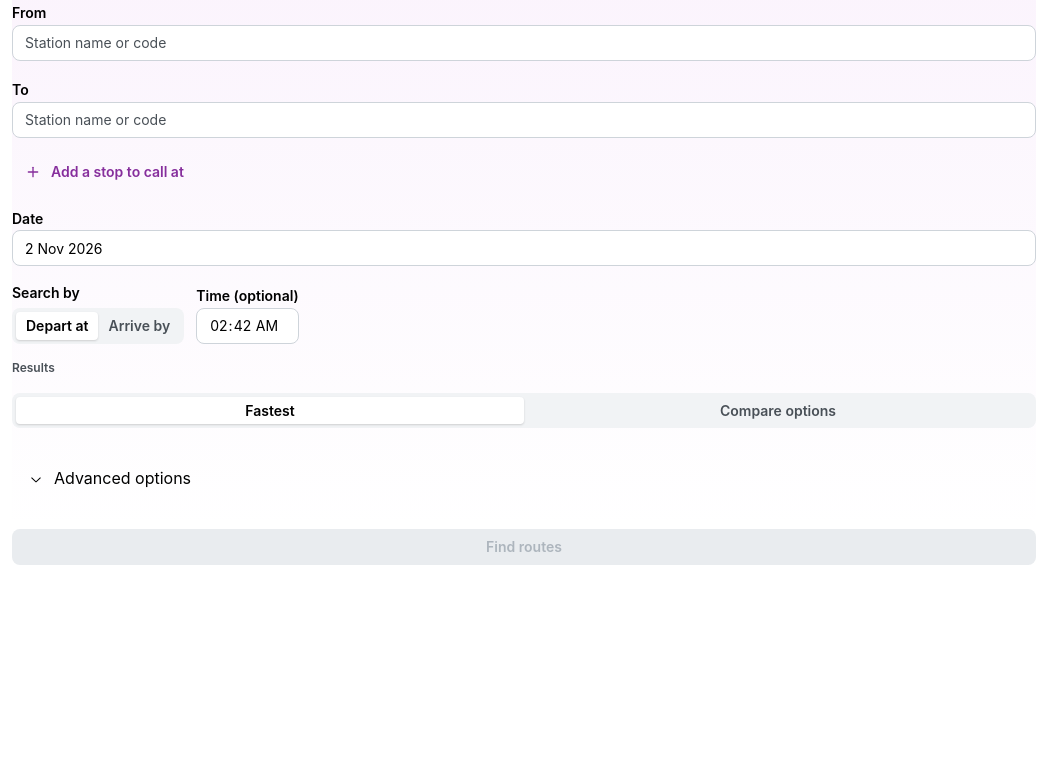
Test: PlanTripFlow › shows a plain-text error and does not offer the button when the plan request fails
Type "EUS" into the dropdown labelled "From".
click(524, 43); type("EUS")  # box left=12, top=25, right=1036, bottom=61
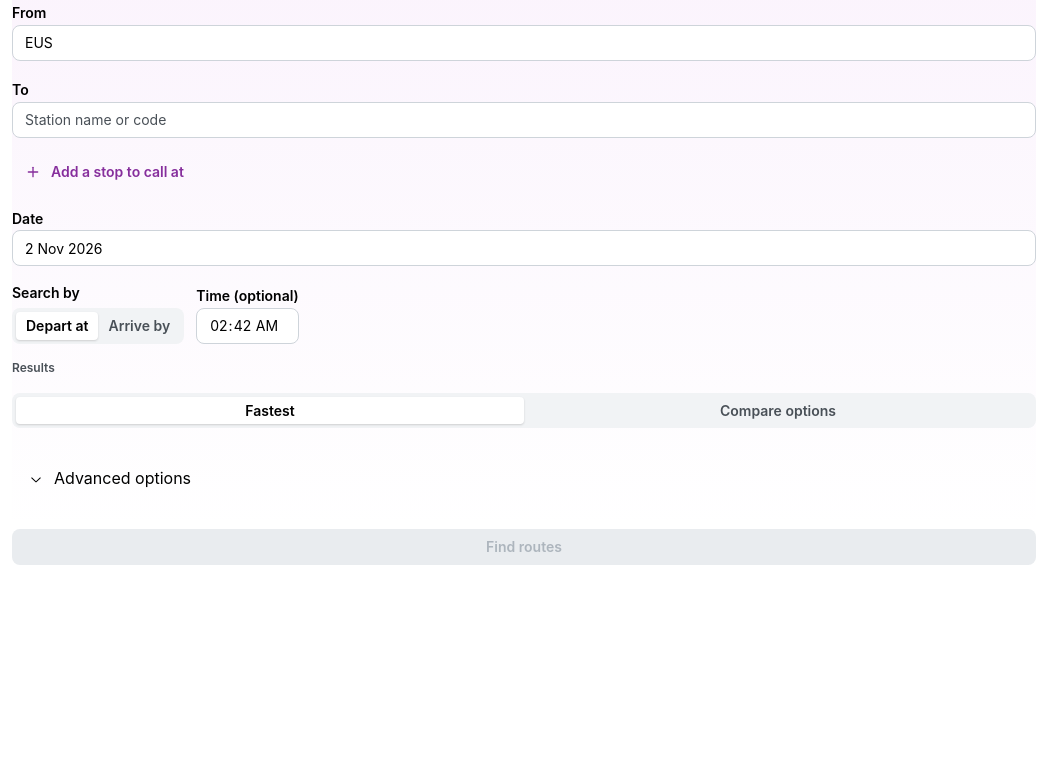
Type "MKC" into the dropdown labelled "To".
click(524, 120); type("MKC")  # box left=12, top=102, right=1036, bottom=138
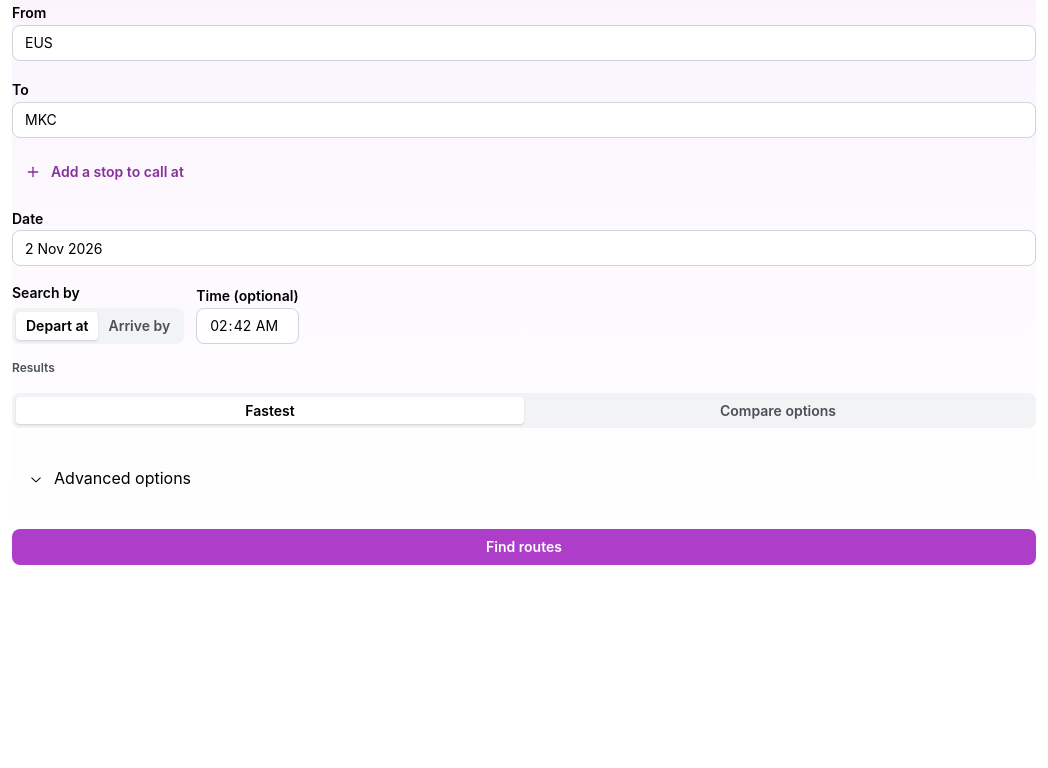
Click the button "Find routes".
click(524, 547)  # box left=12, top=529, right=1036, bottom=565
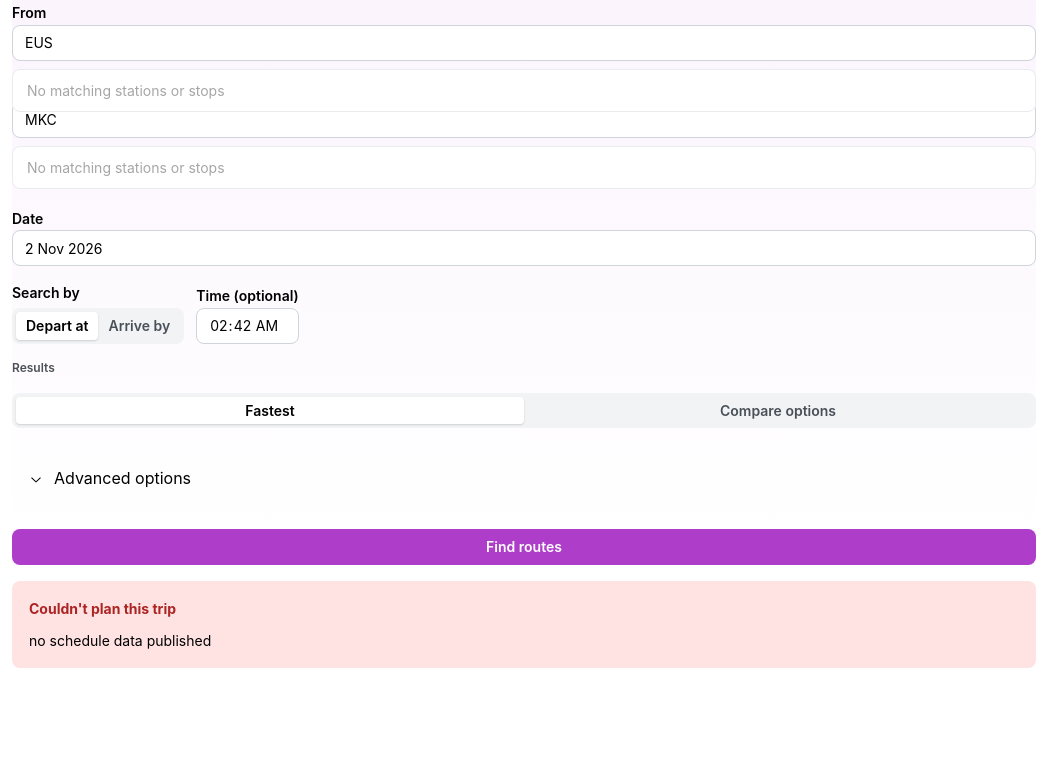
Expected: the text "no schedule data published" is shown, left=29, top=632, right=211, bottom=649
